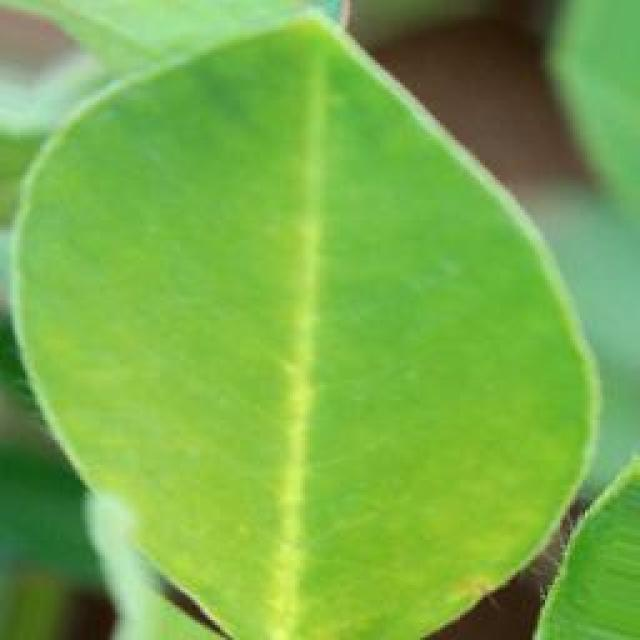Yellow_and_black_sigatoka: (13, 23, 584, 640)
